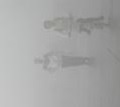person: (32, 49, 93, 71), (43, 15, 109, 35)
